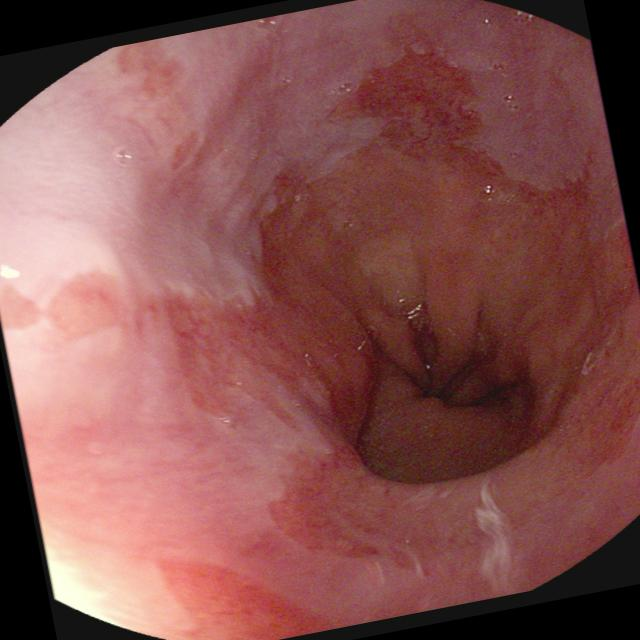esophagitis: (0, 37, 640, 602), (96, 42, 218, 206), (148, 541, 345, 640)
